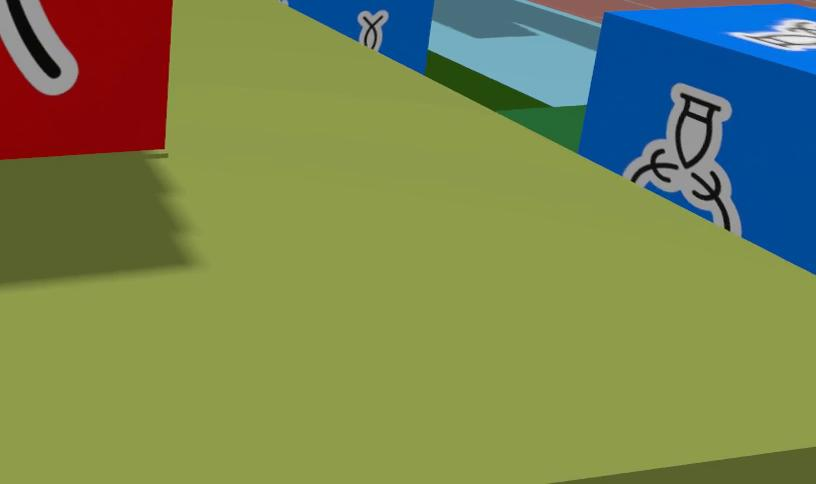KFS_FAKE: (0, 0, 172, 159), (0, 0, 77, 94)
KFS_REAL: (579, 4, 815, 270), (623, 84, 741, 235), (277, 0, 434, 71), (358, 12, 388, 49)
